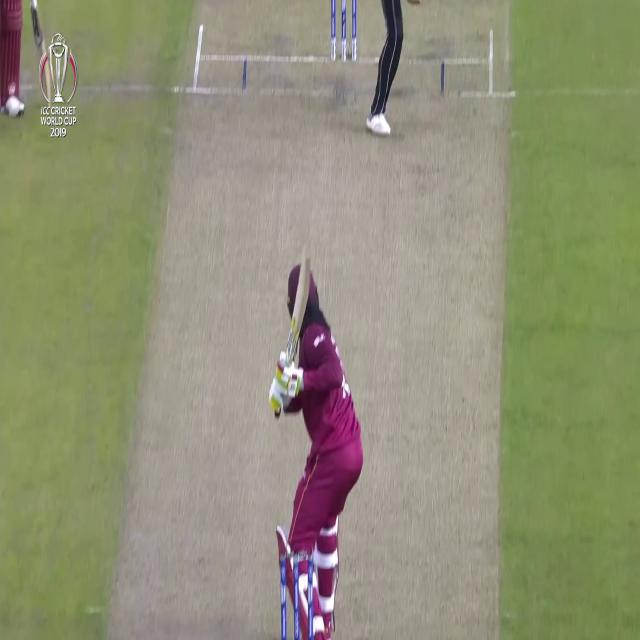ball: (276, 346, 287, 366)
